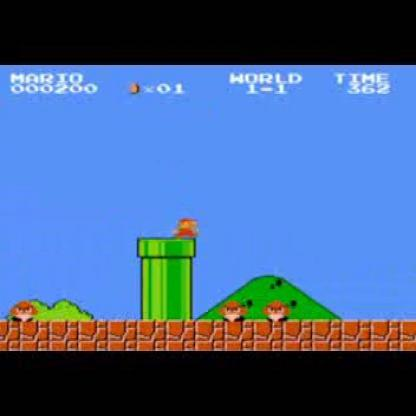Goomba: (264, 293, 292, 321), (217, 296, 245, 323), (11, 298, 39, 322)
